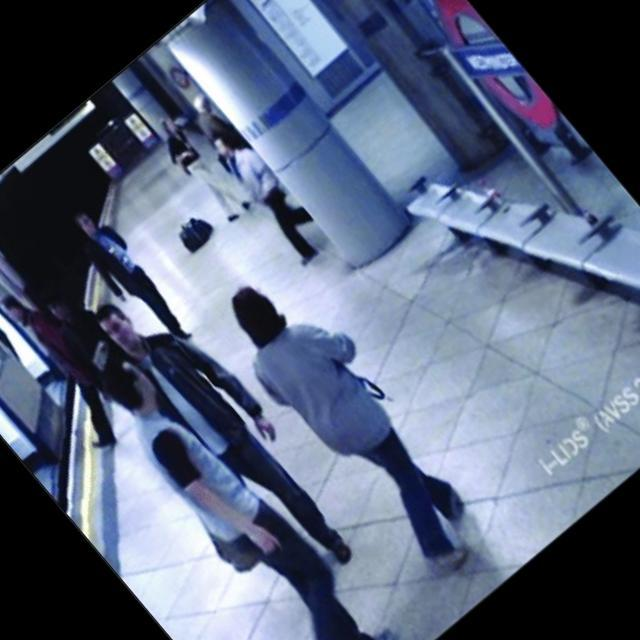person: (202, 250, 510, 590), (77, 332, 409, 640), (57, 194, 206, 358), (0, 277, 138, 437), (200, 115, 334, 264), (148, 105, 258, 227), (38, 281, 121, 371)
